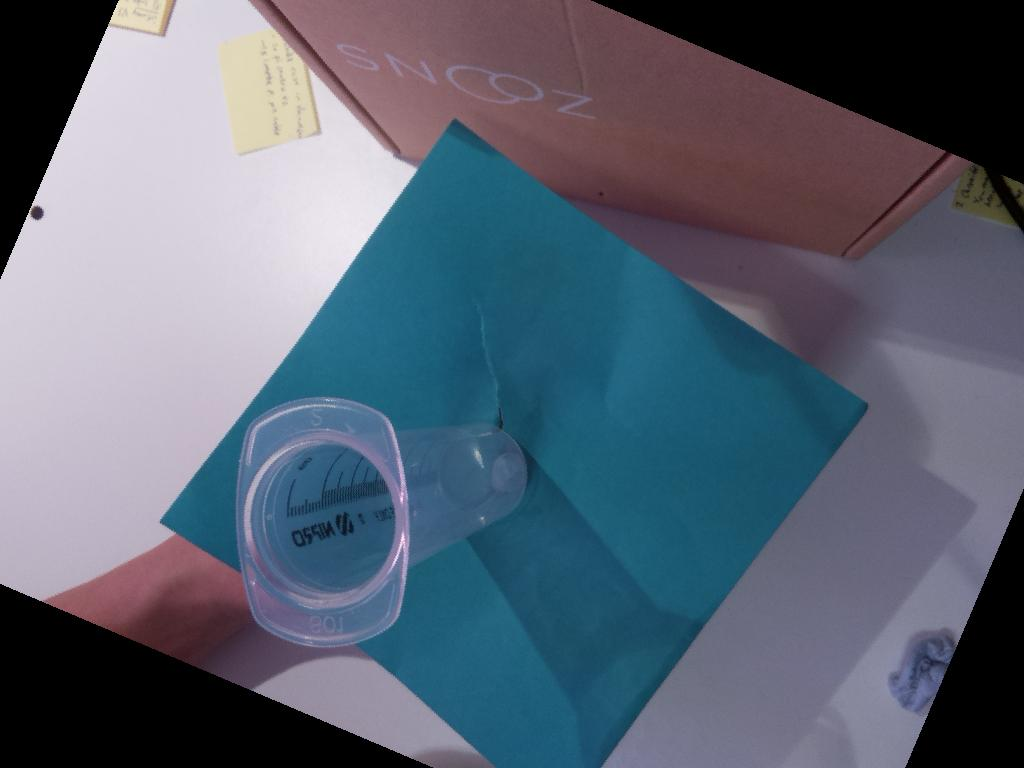clean: (233, 396, 413, 650)
